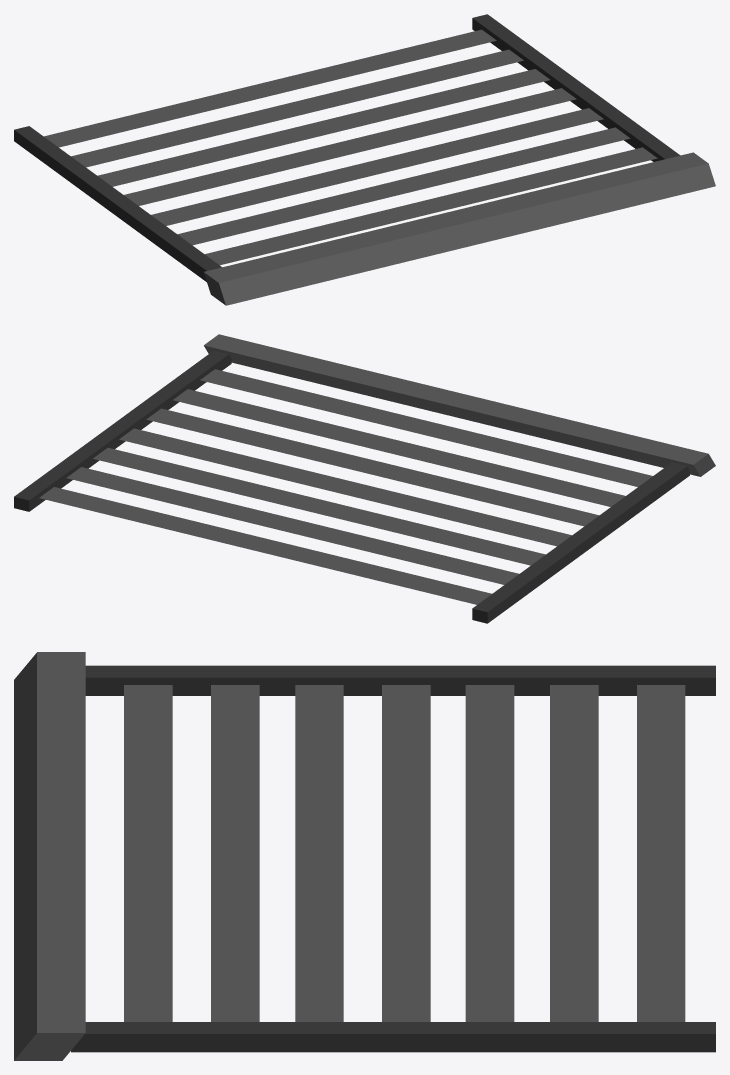
The model's file is display_acc_stray_2.fbx.
3 renders of one model, top to bottom at view 1: azimuth 30°, elevation 25°; view 2: azimuth 150°, elevation 25°; view 3: azimuth 270°, elevation 25°, orthographic. The views are drawn at different scales.
Visible parts, largest first — view 1: display_acc_stray_2; view 2: display_acc_stray_2; view 3: display_acc_stray_2.
Part boxes in pixels (bbox=[...]): display_acc_stray_2: bbox=[14, 14, 715, 305]; display_acc_stray_2: bbox=[14, 334, 715, 623]; display_acc_stray_2: bbox=[14, 652, 715, 1060].
Bounding box in the file's own units: 70.68 × 2.4 × 55.05.
